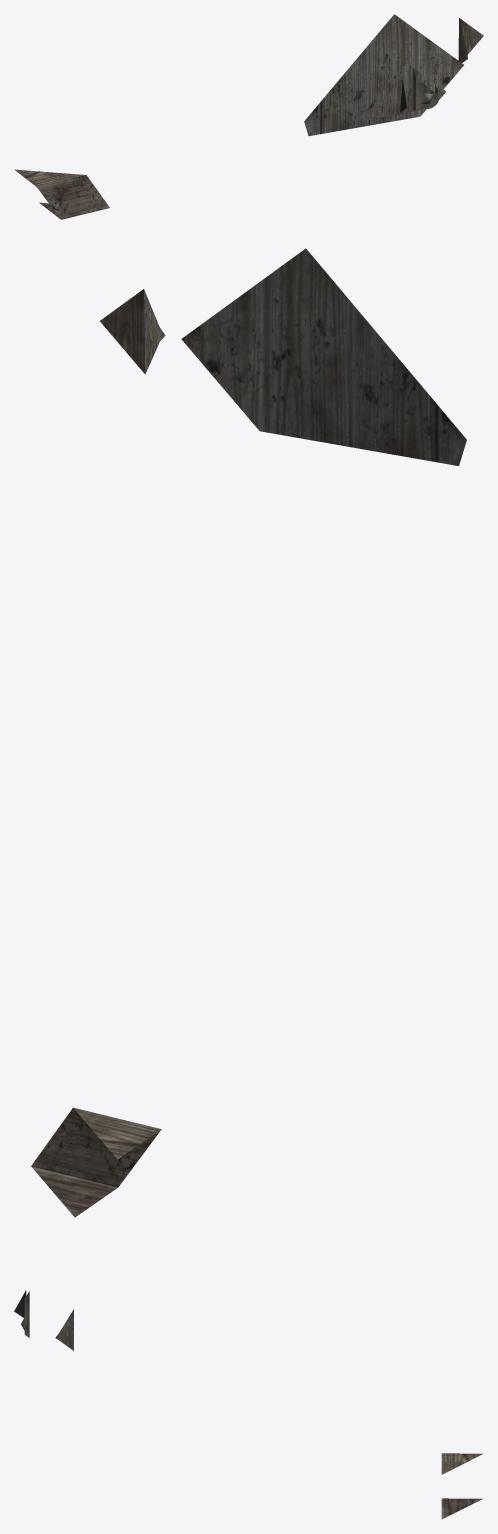
Rendered from Wagon3_2.fbx.
The picture shows the model from 3 angles, top to bottom: view 1: azimuth 30°, elevation 25°; view 2: azimuth 150°, elevation 25°; view 3: azimuth 270°, elevation 25°; orthographic projection. The views are drawn at different scales.
Parts seen in each view (by area): view 1: SM_Wagon03_DM.002; view 2: SM_Wagon03_DM.002; view 3: SM_Wagon03_DM.002.
Boxes of the visible parts, <box> form: SM_Wagon03_DM.002: <box>14,14,483,219</box>; SM_Wagon03_DM.002: <box>31,248,466,1217</box>; SM_Wagon03_DM.002: <box>14,1290,483,1519</box>.
Size of the model in its own units: 5407 by 7255 by 10241.
